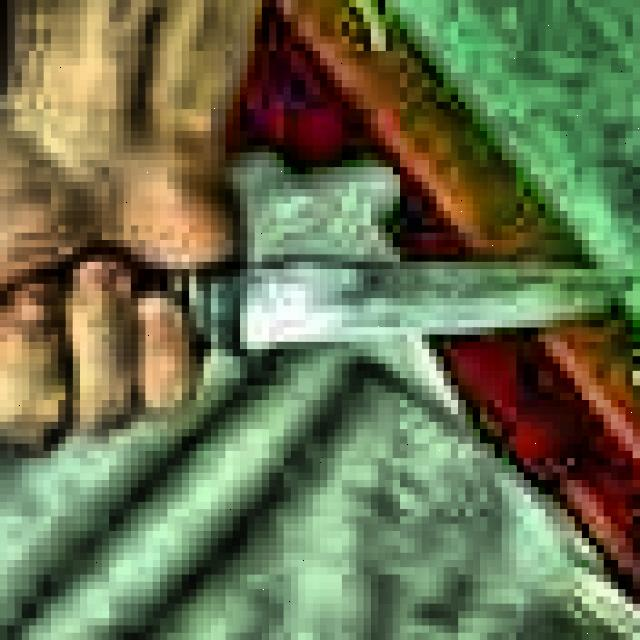knife: (142, 257, 637, 359)
